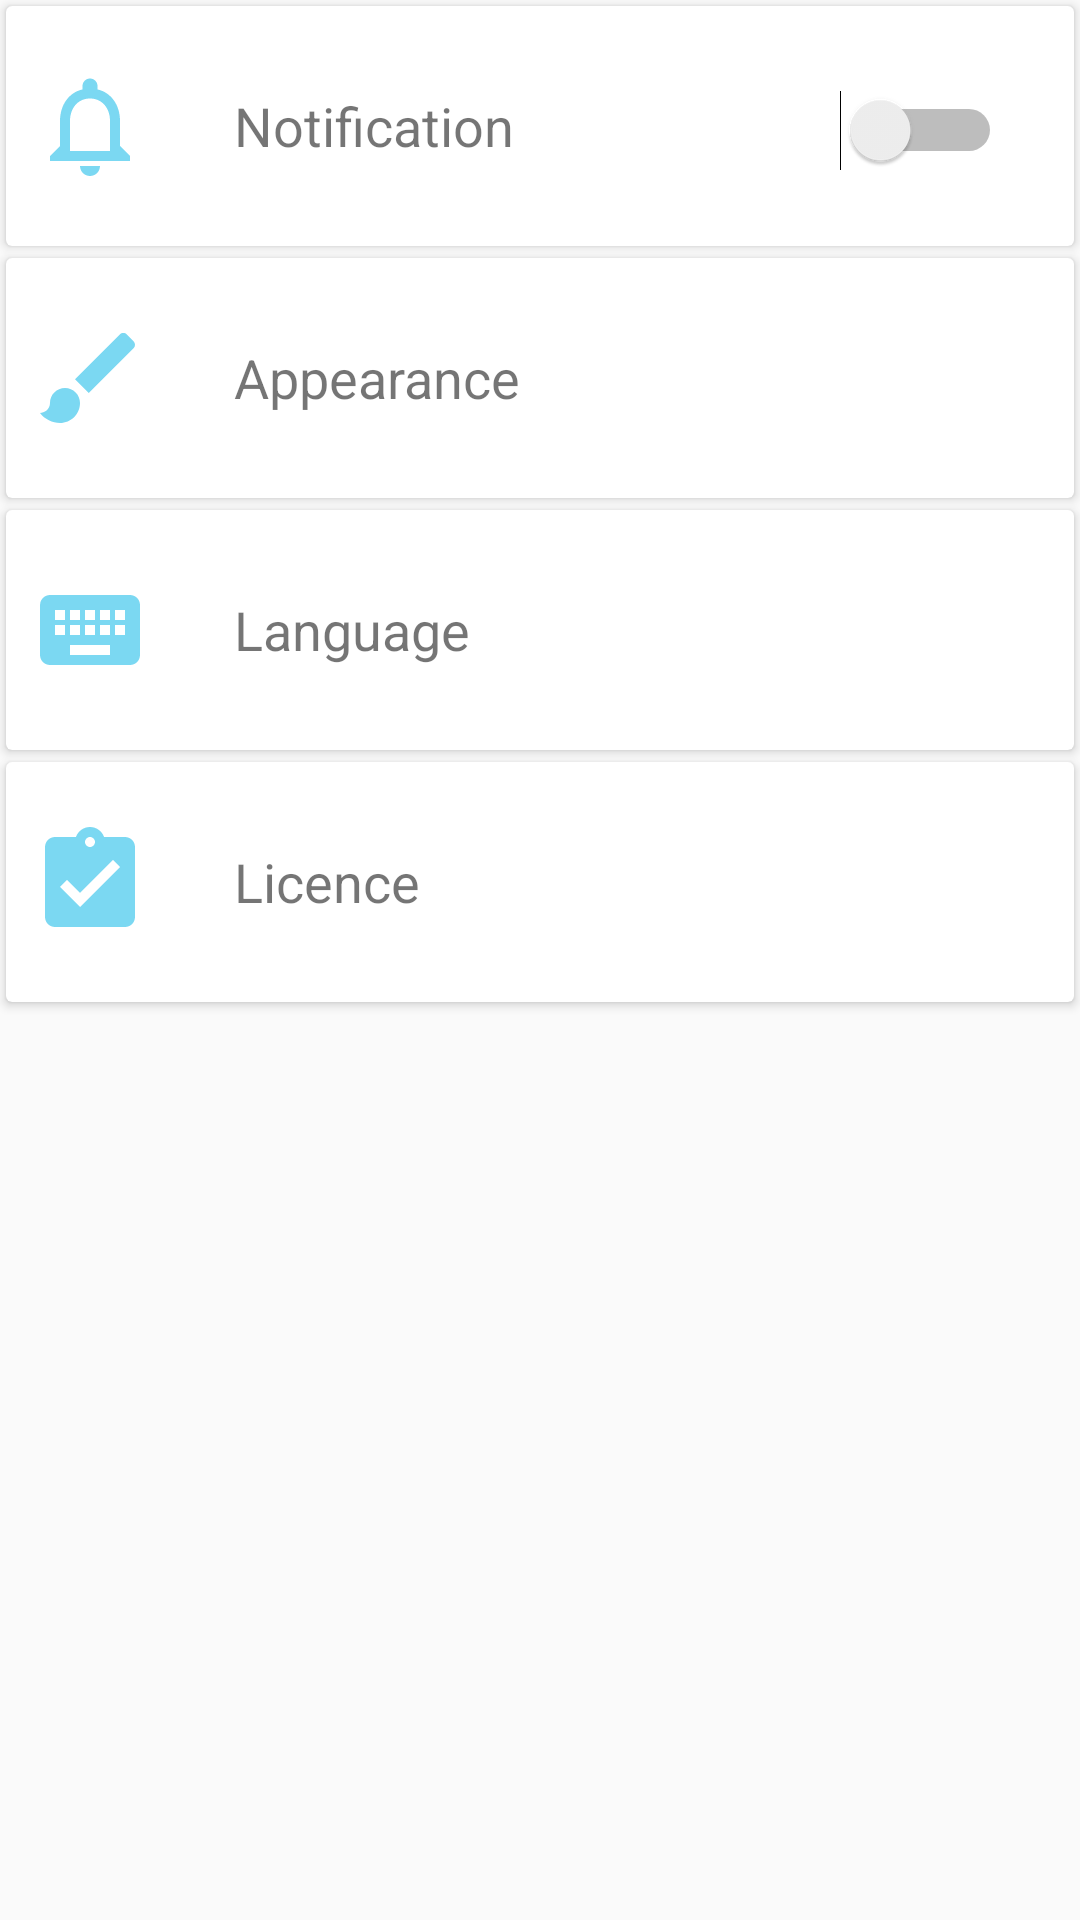

Point at icon controls on the screen. Image size 1080 × 1920, points as (x=x, y=y).
assignment turned in: (x=90, y=877)
brush: (x=87, y=378)
keyboard: (x=90, y=630)
